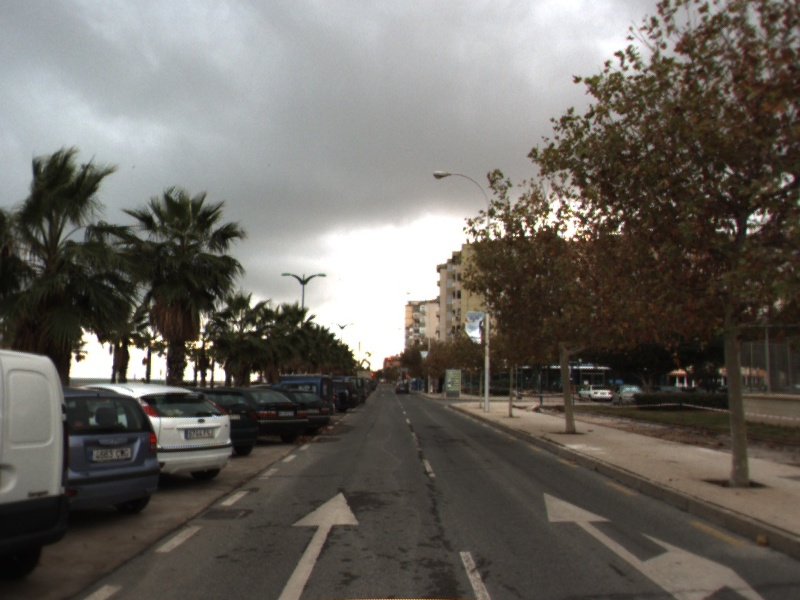STRAIGHT: (274, 489, 363, 600)
STRAIGHT_RIGHT: (541, 490, 765, 600)
